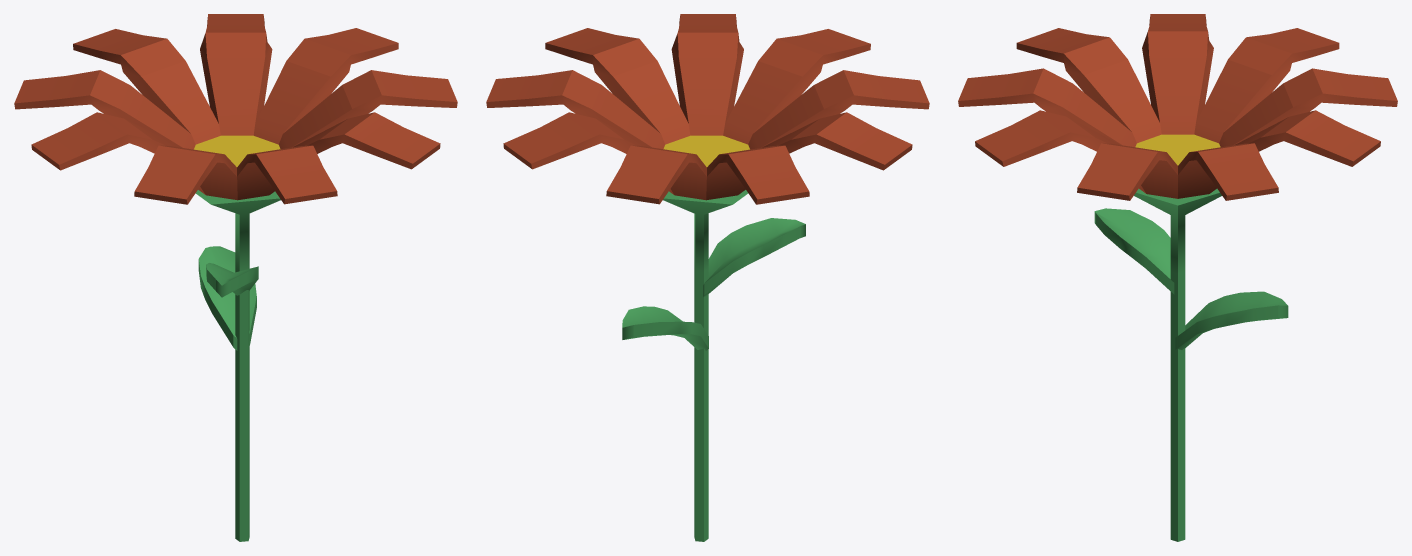
The model's file is Flower5.fbx.
3 renders of one model, left to right at view 1: azimuth 30°, elevation 25°; view 2: azimuth 150°, elevation 25°; view 3: azimuth 270°, elevation 25°, orthographic.
Parts seen in each view (by area): view 1: Flower_5; view 2: Flower_5; view 3: Flower_5.
Part boxes in pixels (left/top/right/bottom): Flower_5: left=14, top=14, right=457, bottom=541; Flower_5: left=486, top=14, right=929, bottom=541; Flower_5: left=958, top=14, right=1397, bottom=541.
Bounding box in the file's own units: 39.78 × 45 × 40.4.
